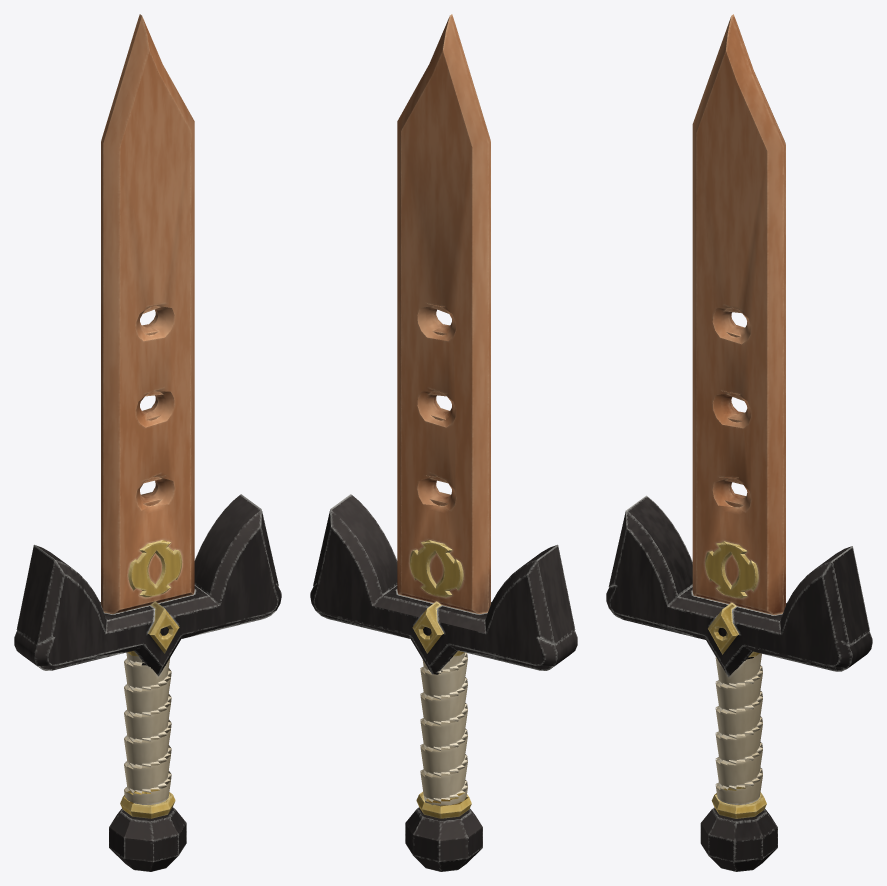
File: Lucky Streak.fbx
The picture shows the model from 3 angles, left to right: view 1: azimuth 30°, elevation 25°; view 2: azimuth 150°, elevation 25°; view 3: azimuth 330°, elevation 25°; orthographic projection.
Visible parts, largest first — view 1: Lucky Streak_Body; view 2: Lucky Streak_Body; view 3: Lucky Streak_Body.
Part boxes in pixels (<box>): Lucky Streak_Body: <box>14,14,281,871</box>; Lucky Streak_Body: <box>310,14,577,871</box>; Lucky Streak_Body: <box>606,14,872,871</box>.
Bounding box in the file's own units: 1.24 × 4.1 × 0.32.
